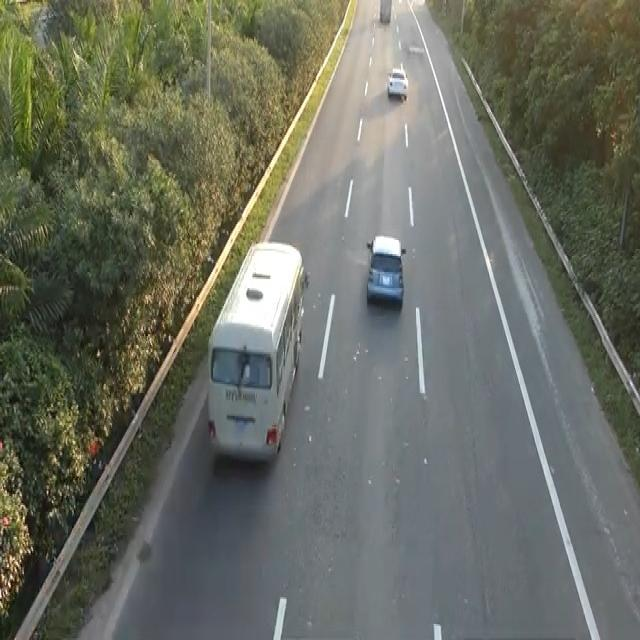bus: (364, 231, 407, 311)
jeep: (205, 236, 309, 464)
